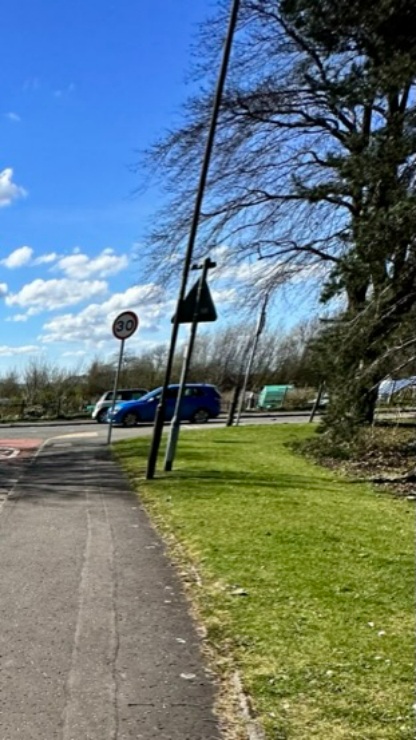car: (113, 377, 229, 426), (89, 387, 118, 416)
tree: (229, 0, 416, 401)
